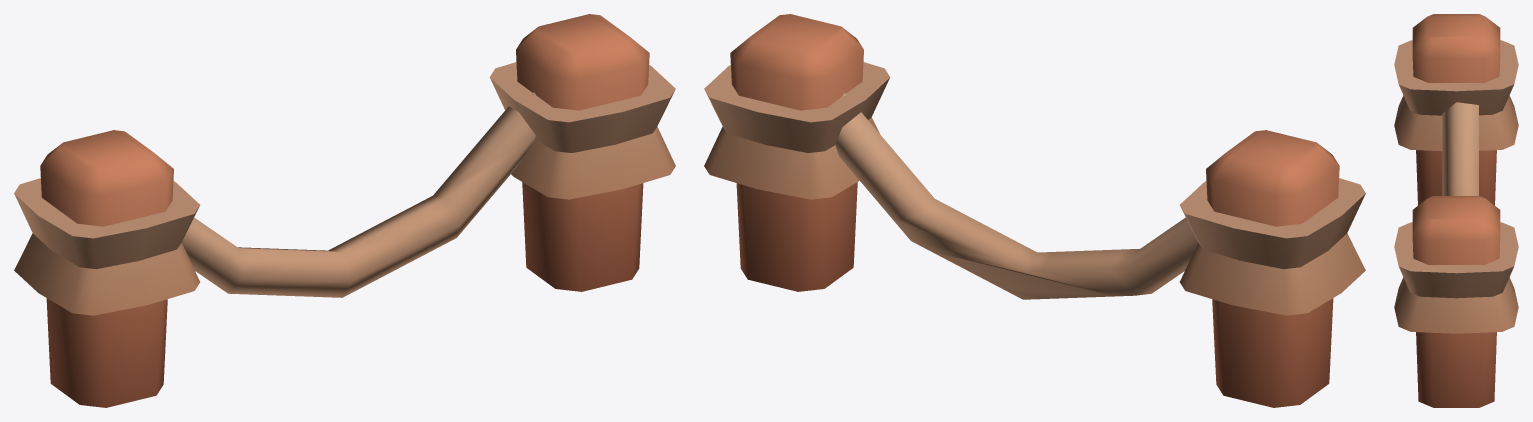
Rendered from fence.glb.
3 views of the same model, side by side, from view 1: azimuth 30°, elevation 25°; view 2: azimuth 150°, elevation 25°; view 3: azimuth 270°, elevation 25° (orthographic). The views are drawn at different scales.
Visible parts, largest first — view 1: fence; view 2: fence; view 3: fence.
Boxes of the visible parts, left/top/right/bottom form: fence: left=14, top=14, right=675, bottom=407; fence: left=704, top=14, right=1365, bottom=407; fence: left=1394, top=14, right=1518, bottom=407.
Size of the model in its own units: 1.1 by 0.4 by 0.2458.
